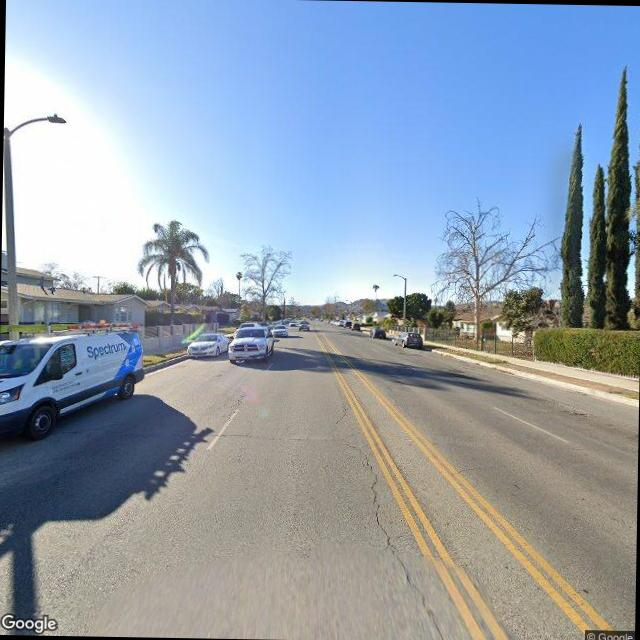crack: (338, 430, 448, 636), (105, 424, 341, 444)
